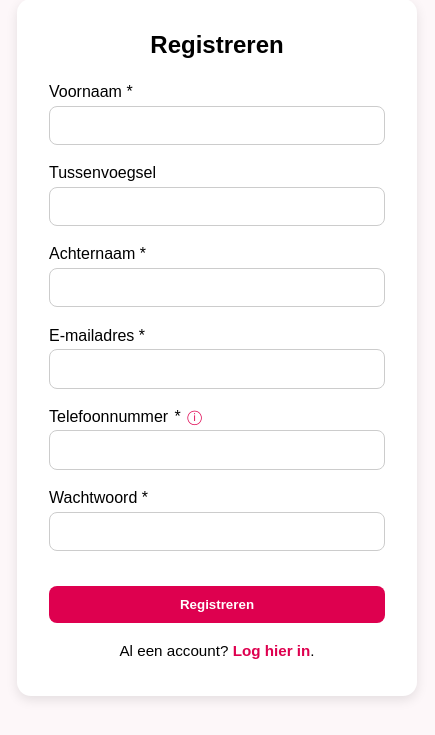
Test case: Register component › laat foutmelding zien als signUp faalt
Type "Jan" into the field labelled "Voornaam *" at (217,125), box [49, 106, 385, 145]
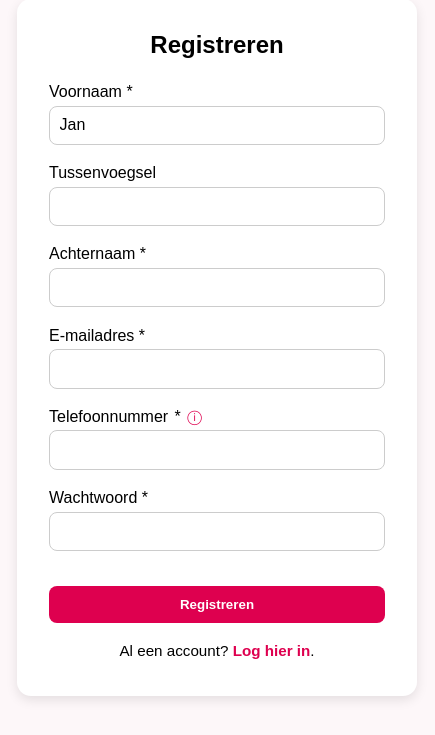
Type "Jansen" into the field labelled "Achternaam *" at (217,288), box [49, 268, 385, 307]
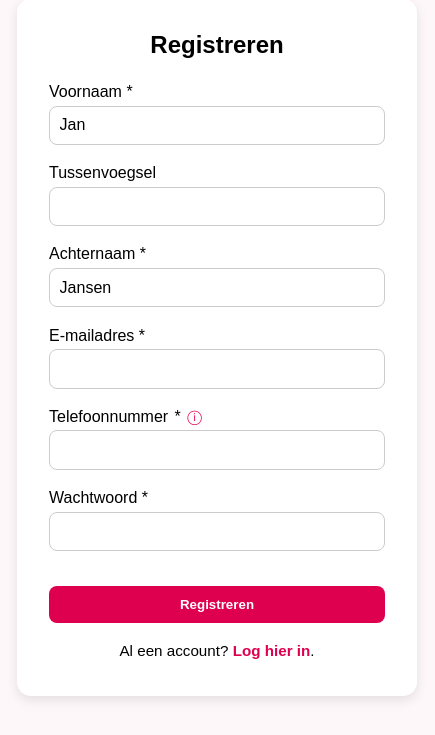
Type "jan@example.com" into the field labelled "E-mailadres *" at (217,369), box [49, 349, 385, 388]
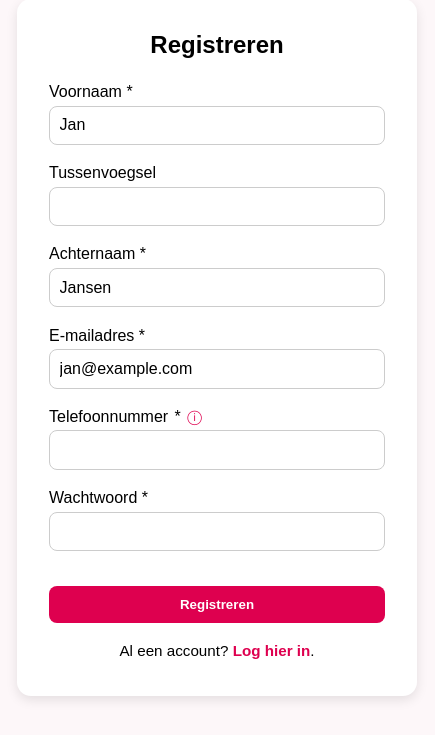
Type "0612345678" into the field labelled "Telefoonnummer * ⓘ" at (217,450), box [49, 430, 385, 470]
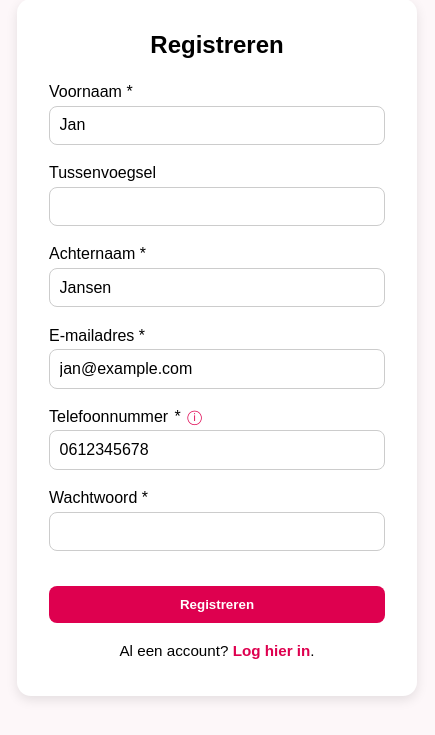
Type "wachtwoord" into the password field labelled "Wachtwoord *" at (217,531), box [49, 512, 385, 551]
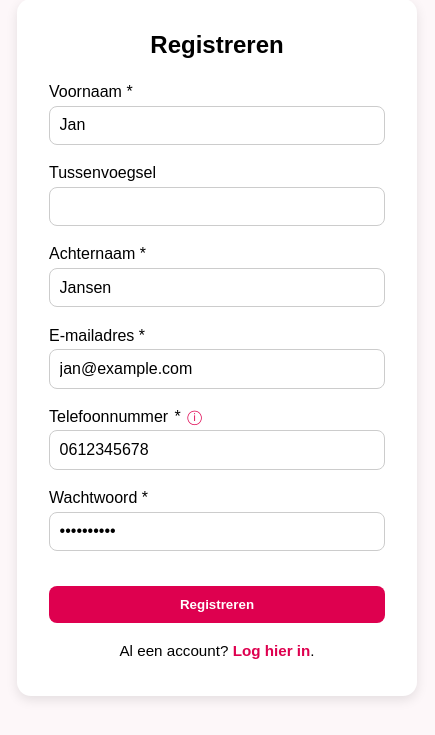
Click the button "Registreren" at (217,605), box [49, 586, 385, 623]
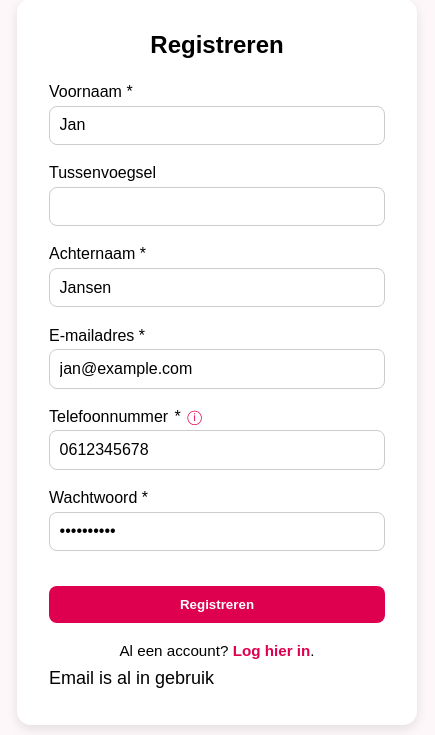
Result: the text "Email is al in gebruik" is shown at [49, 668, 214, 688]
